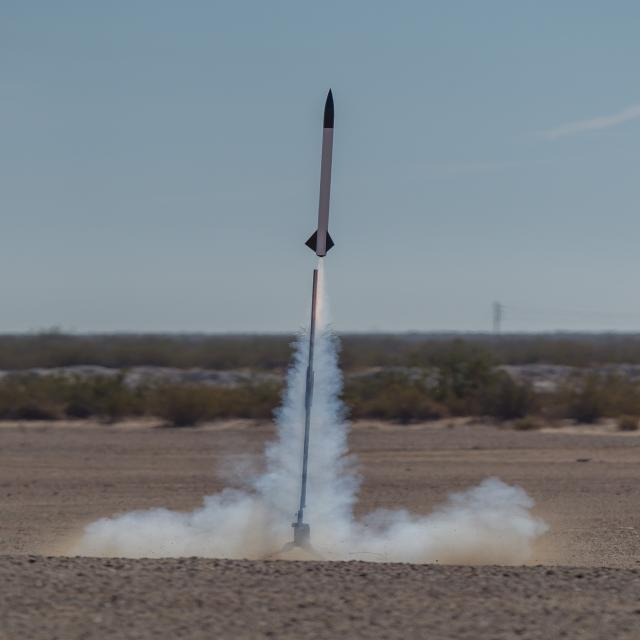Rocket: (304, 88, 336, 258)
